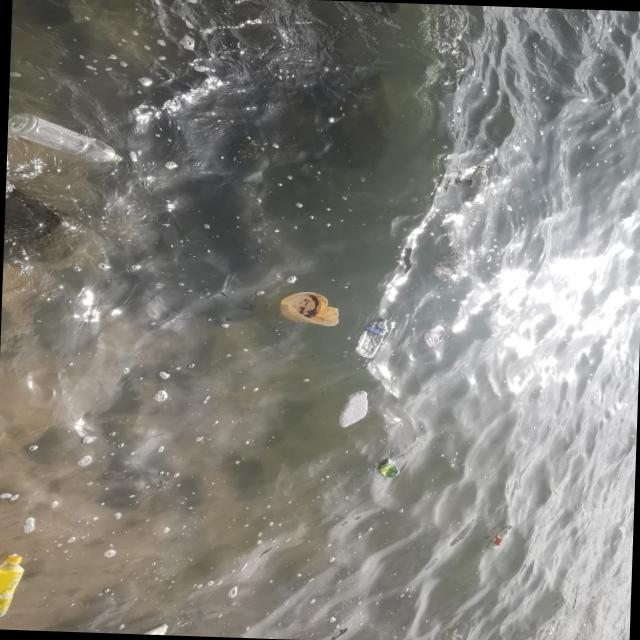can: (374, 458, 401, 478)
foam: (119, 622, 169, 635)
plastic: (0, 553, 23, 619), (353, 316, 388, 359), (335, 389, 367, 428), (486, 524, 512, 551)
plastic bottle: (5, 112, 124, 164), (280, 290, 342, 326)
